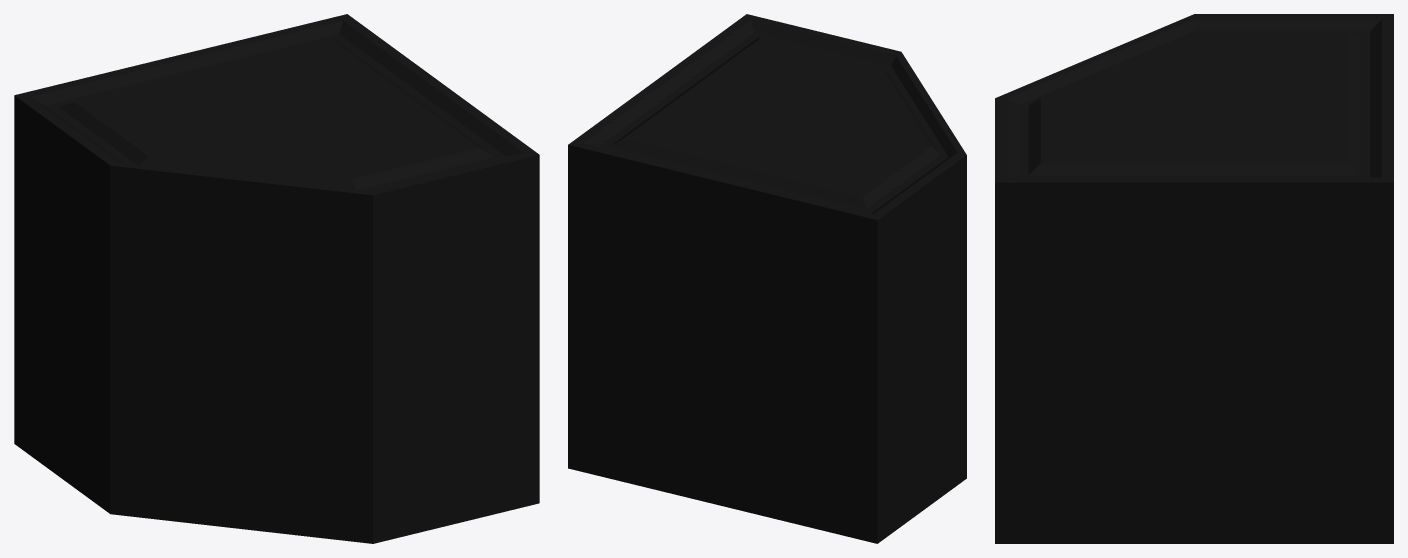
File: Tile 3S.fbx
The picture shows the model from 3 angles, left to right: view 1: azimuth 30°, elevation 25°; view 2: azimuth 150°, elevation 25°; view 3: azimuth 270°, elevation 25°; orthographic projection. The views are drawn at different scales.
Visible parts, largest first — view 1: pCube199; view 2: pCube199; view 3: pCube199.
Part boxes in pixels (x1,y1,x2,y2): pCube199: [14, 14, 539, 543]; pCube199: [568, 14, 966, 543]; pCube199: [995, 14, 1393, 543].
Bounding box in the file's own units: 1 × 1 × 1.
